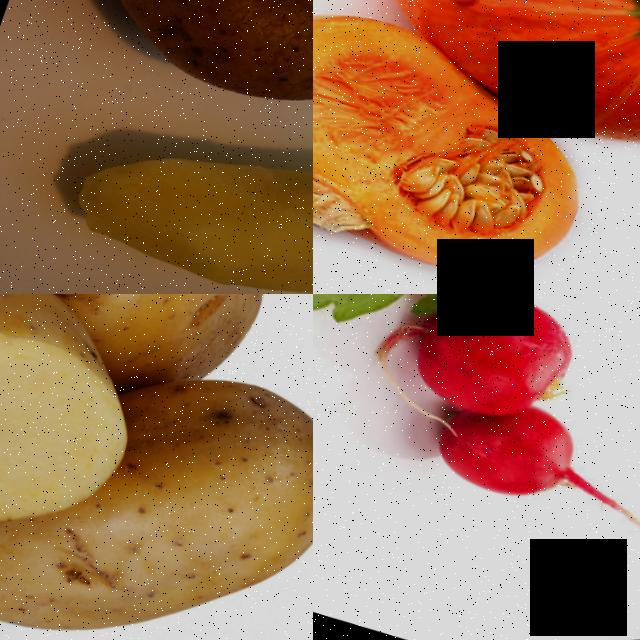potato: (49, 346, 313, 640), (55, 74, 313, 294), (0, 294, 167, 564), (67, 0, 313, 181)
pumpkin: (313, 0, 629, 294), (339, 0, 640, 181)
radishes: (328, 294, 595, 430), (424, 389, 604, 527)
